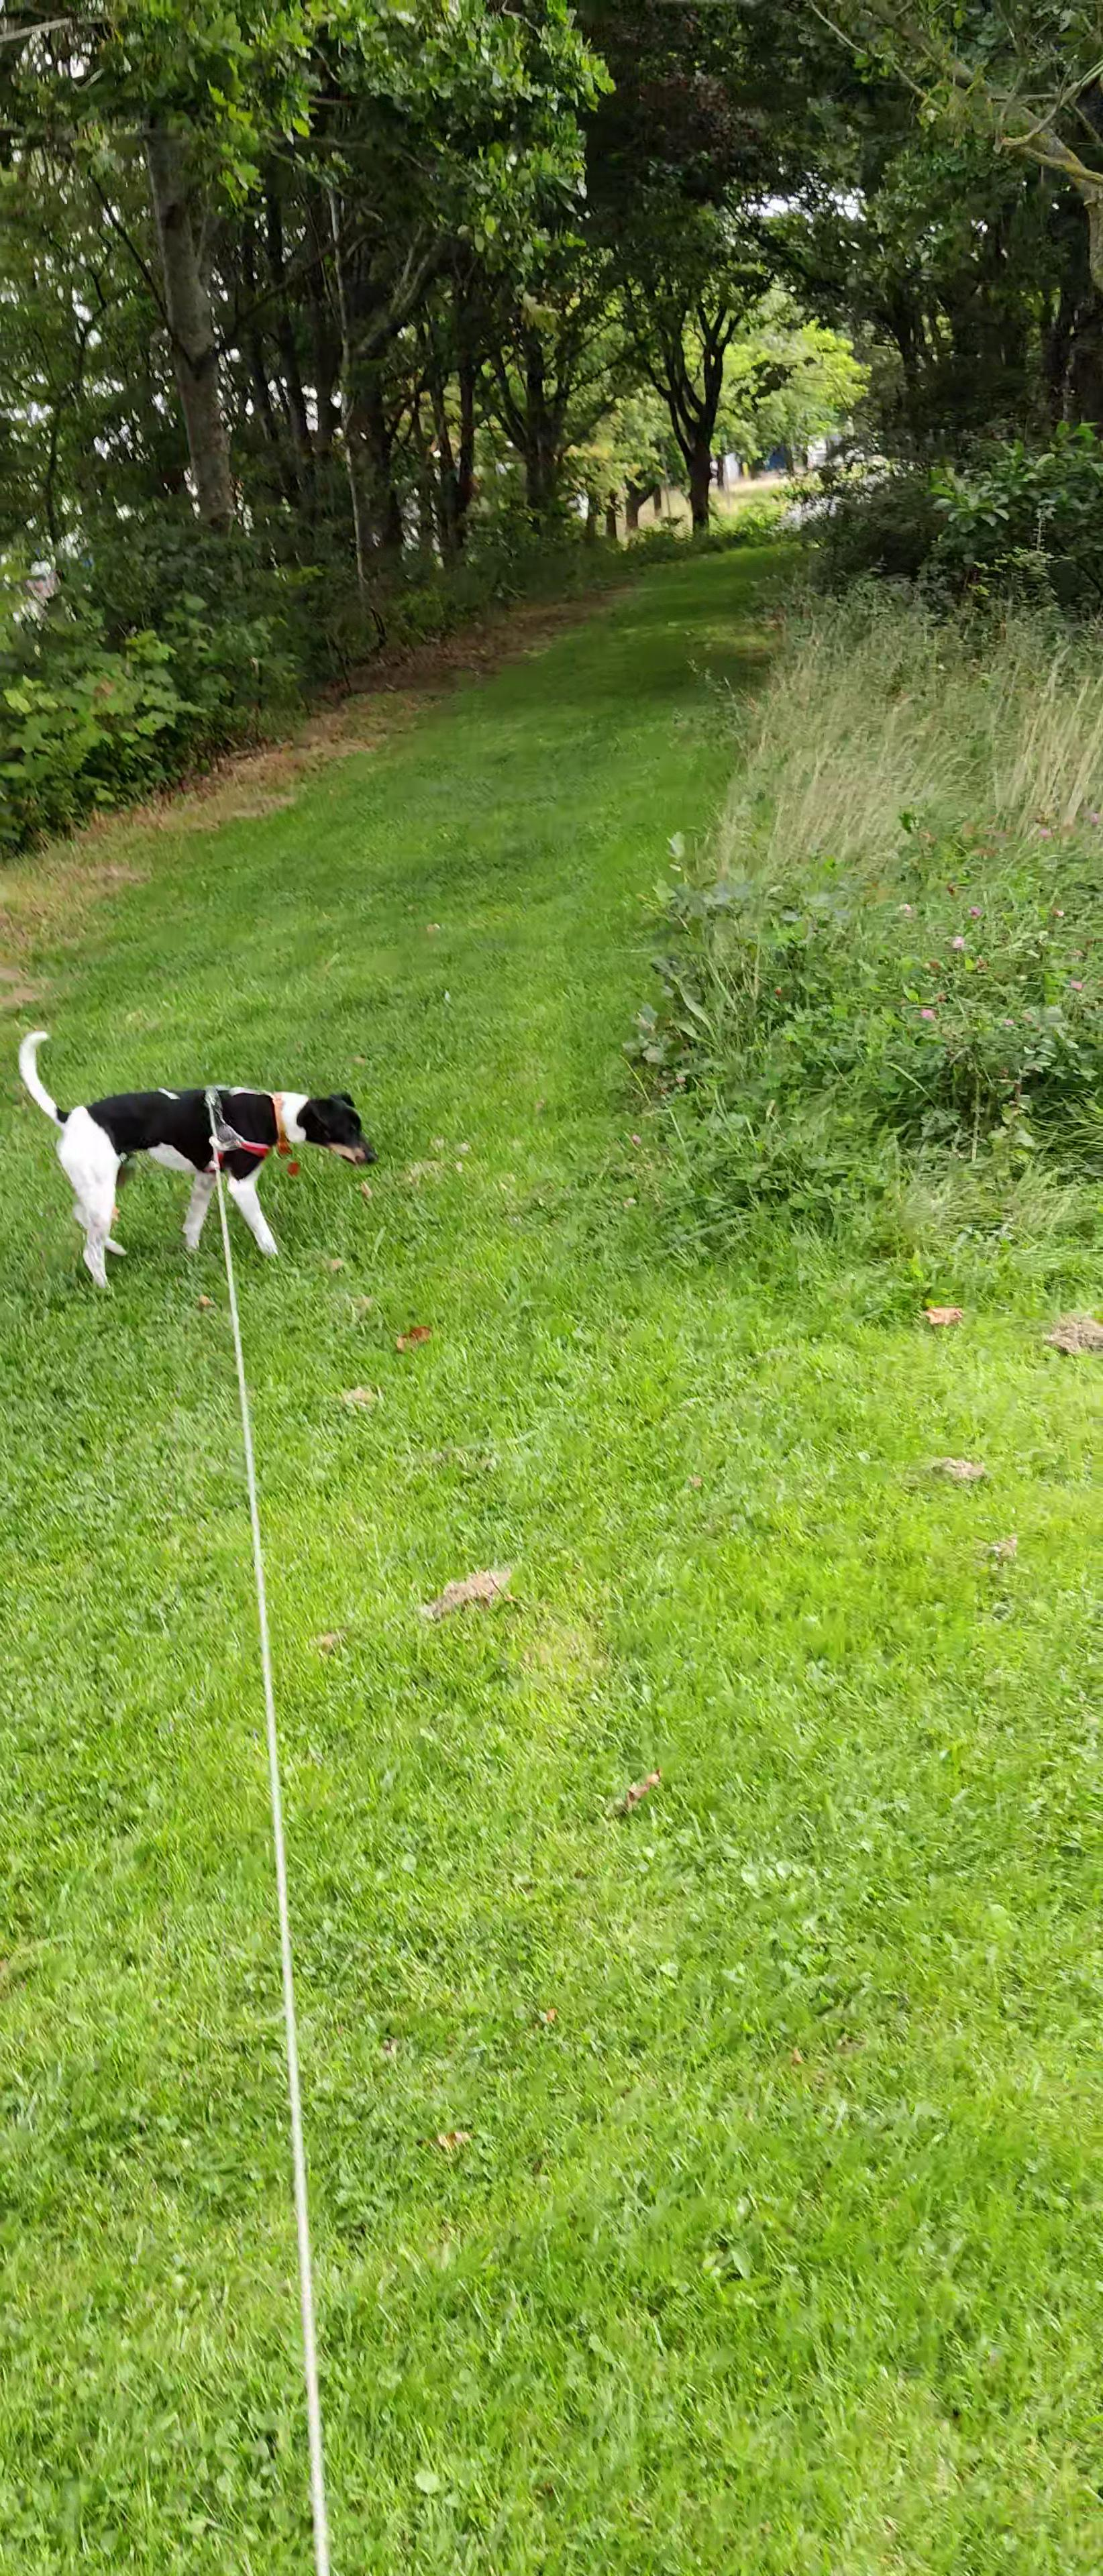Dog: (13, 1027, 383, 1288)
